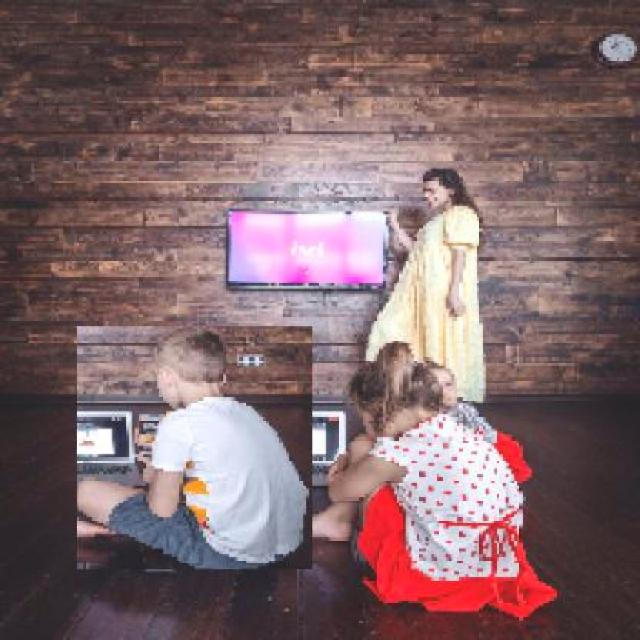child: (345, 342, 561, 622), (75, 326, 312, 571)
